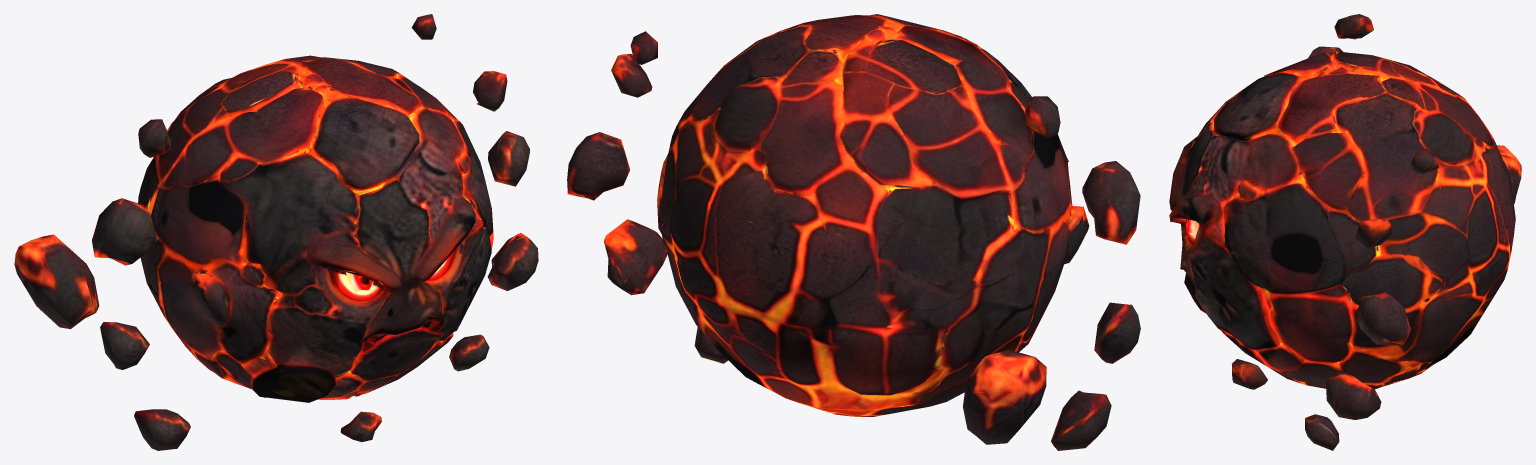
Rendered from Meshy_AI_Molten_Skull_Sphere_0602174152_texture.fbx.
3 views of the same model, side by side, from view 1: azimuth 30°, elevation 25°; view 2: azimuth 150°, elevation 25°; view 3: azimuth 270°, elevation 25° (orthographic). The views are drawn at different scales.
Visible parts, largest first — view 1: Mesh1.0; view 2: Mesh1.0; view 3: Mesh1.0.
Part boxes in pixels (bbox=[...]): Mesh1.0: bbox=[14, 14, 538, 450]; Mesh1.0: bbox=[567, 14, 1140, 450]; Mesh1.0: bbox=[1169, 14, 1521, 450].
Bounding box in the file's own units: 191 × 131 × 132.
Materials: 1 (1 with a texture image).
